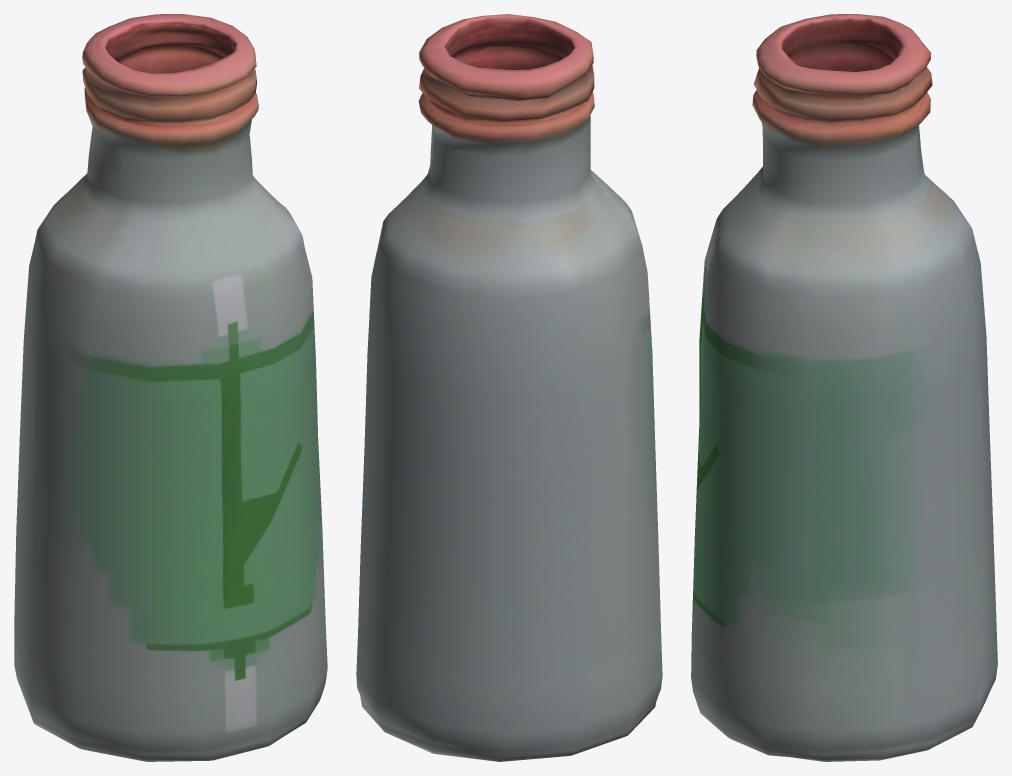
Rendered from pot_glassjar_meshy.glb.
3 renders of one model, left to right at view 1: azimuth 30°, elevation 25°; view 2: azimuth 150°, elevation 25°; view 3: azimuth 270°, elevation 25°, orthographic.
Bounding box in the file's own units: 0.8454 × 2 × 0.8426.
1 material, 1 textured.
